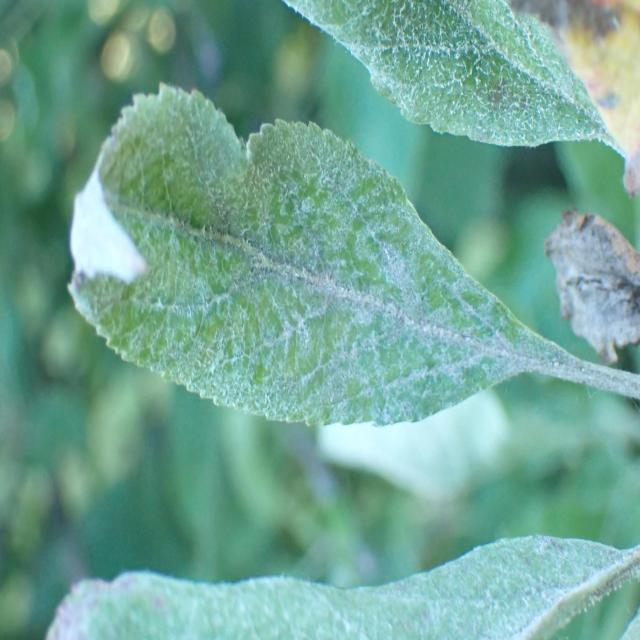Powdery_mildew: (68, 59, 556, 494), (256, 0, 616, 261), (18, 523, 640, 640), (525, 191, 640, 384)
